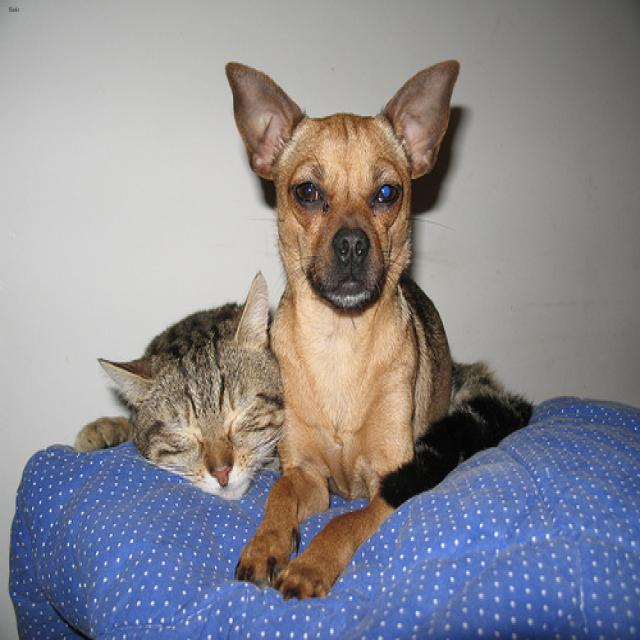dog-miniature_pinscher: (214, 53, 467, 613)
